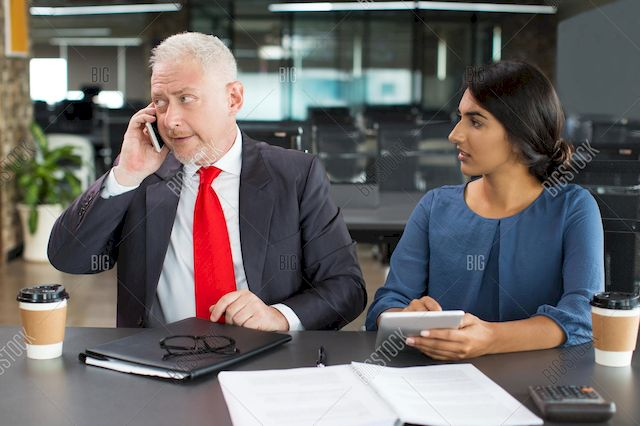phone: (141, 114, 164, 150)
talk: (124, 84, 212, 169)
